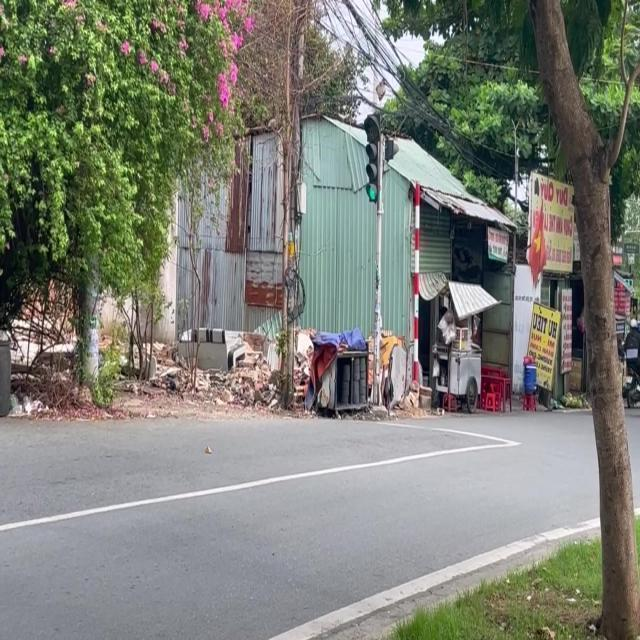green_light: (352, 116, 368, 203)
